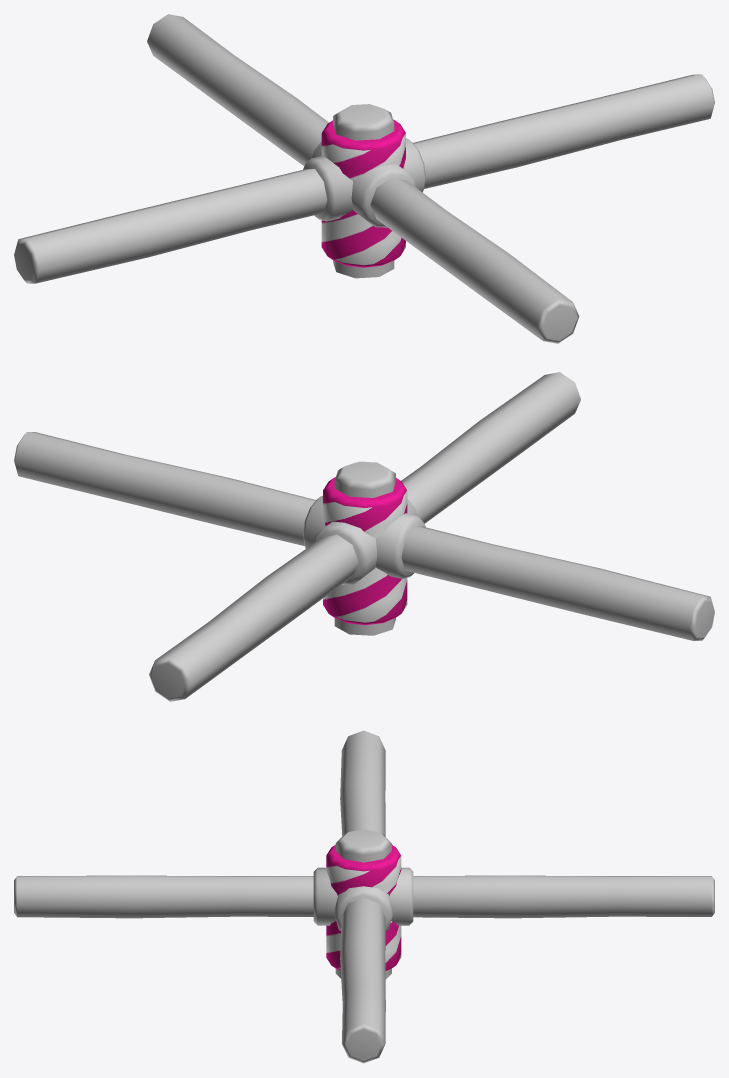
The model's file is obstacle_12_001.fbx.
3 renders of one model, top to bottom at view 1: azimuth 30°, elevation 25°; view 2: azimuth 150°, elevation 25°; view 3: azimuth 270°, elevation 25°, orthographic. The views are drawn at different scales.
Visible parts, largest first — view 1: obstacle_12_001; view 2: obstacle_12_001; view 3: obstacle_12_001.
Part boxes in pixels (x1,y1,x2,y2): obstacle_12_001: (14, 14, 714, 343); obstacle_12_001: (14, 372, 714, 701); obstacle_12_001: (14, 730, 714, 1063).
Size of the model in its own units: 1373 by 1373 by 292.
